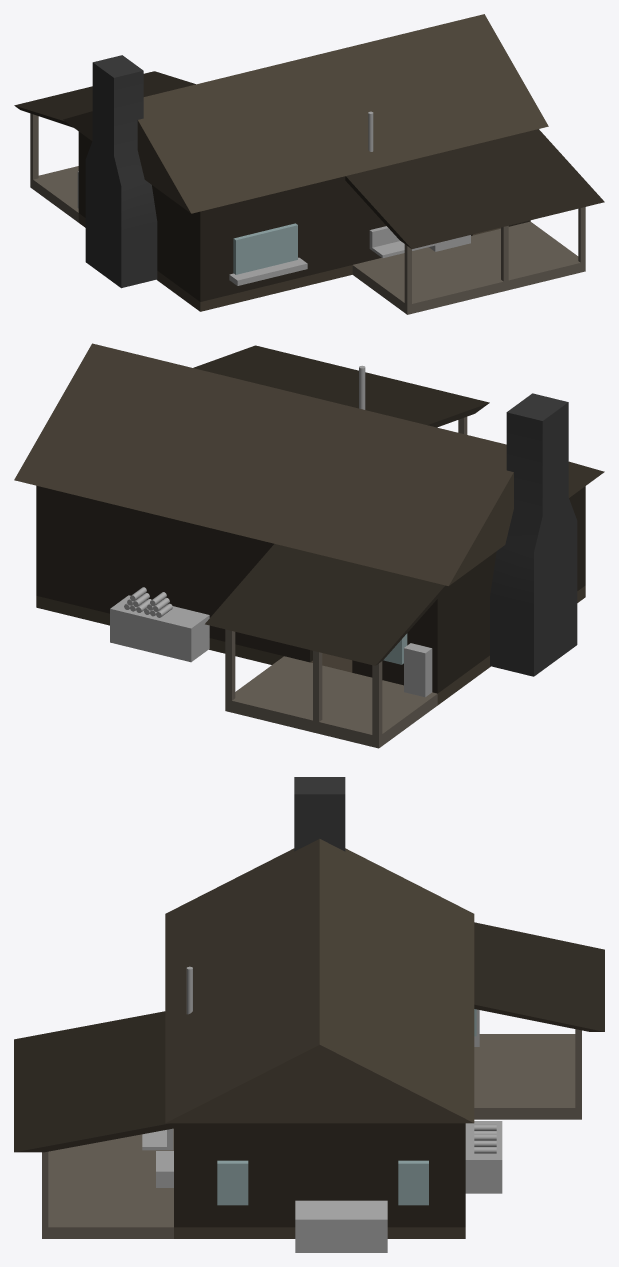
The model's file is Lodge_test2.fbx.
The picture shows the model from 3 angles, top to bottom: view 1: azimuth 30°, elevation 25°; view 2: azimuth 150°, elevation 25°; view 3: azimuth 270°, elevation 25°; orthographic projection. The views are drawn at different scales.
Visible parts, largest first — view 1: pCylinder29; view 2: pCylinder29; view 3: pCylinder29.
Part boxes in pixels (box(x1,y1,x2,y2)): pCylinder29: box(14, 14, 604, 314); pCylinder29: box(14, 343, 604, 748); pCylinder29: box(14, 777, 604, 1252).
Size of the model in its own units: 17.57 by 8.83 by 19.12.
